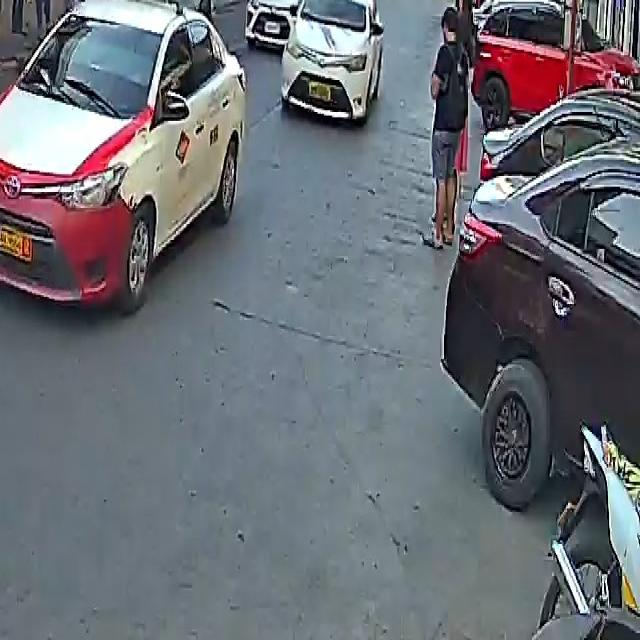car: (442, 59, 640, 528), (0, 0, 251, 313), (471, 0, 636, 132), (281, 0, 387, 126), (245, 0, 333, 50), (71, 0, 194, 7)
